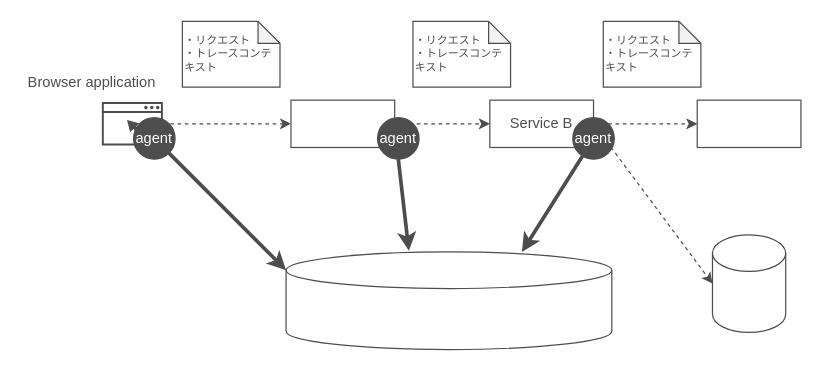
The diagram is 822 pixels wide and 371 high, and some of its shapes have lost their labels. The shapes that lost their labels are listed below. From the top down, each one's centre as x and y in pixels, then its label:
the point at 342,123: Service A
the point at 748,123: Extenal
the point at 448,300: テレメトリーデータ （システムの状態を表すデータ）
the point at 748,283: Datastore
